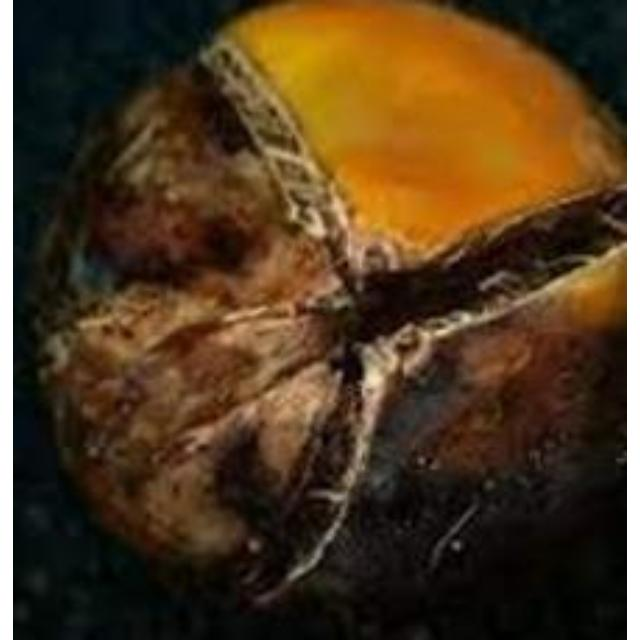damaged: (30, 0, 625, 618)
